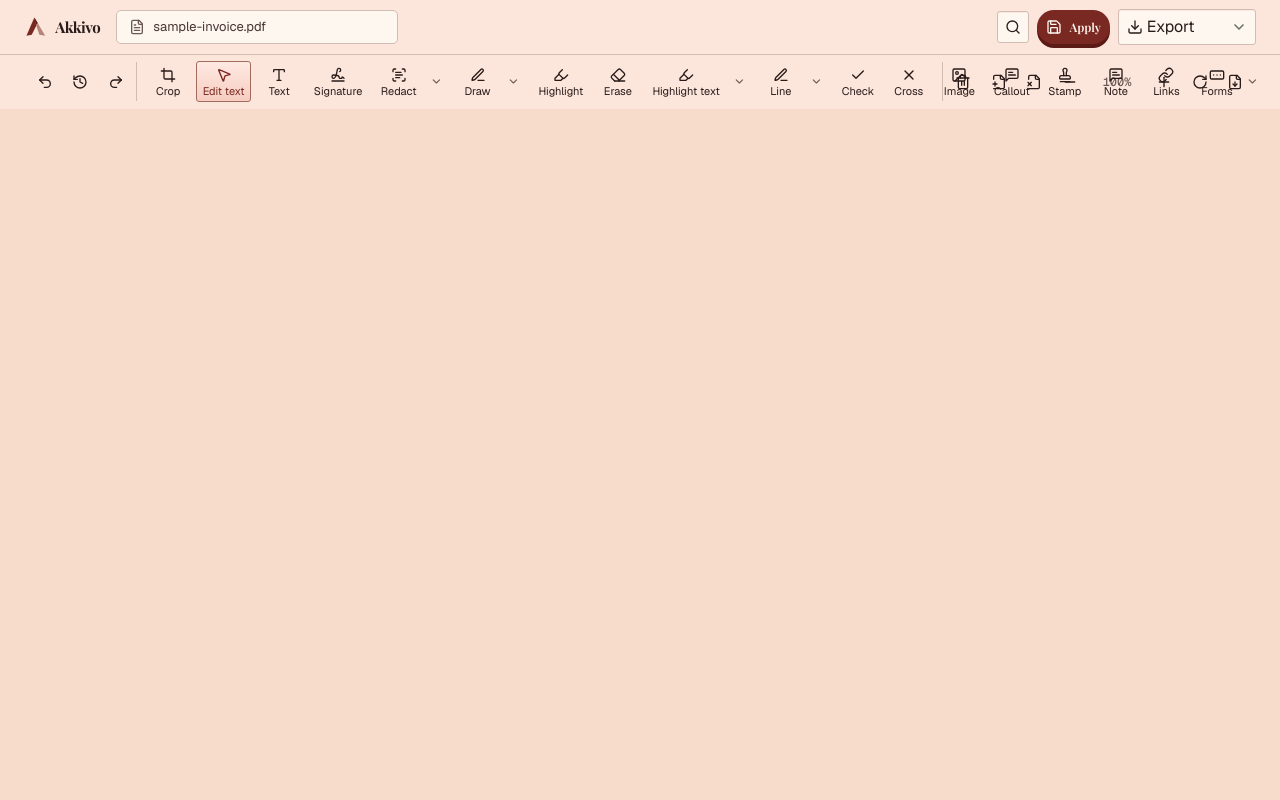
ToolRibbon › history dialog › selects a different entry then reverts it
Click the button titled "Undo history" at {"x": 80, "y": 82}, box [65,62,95,101]
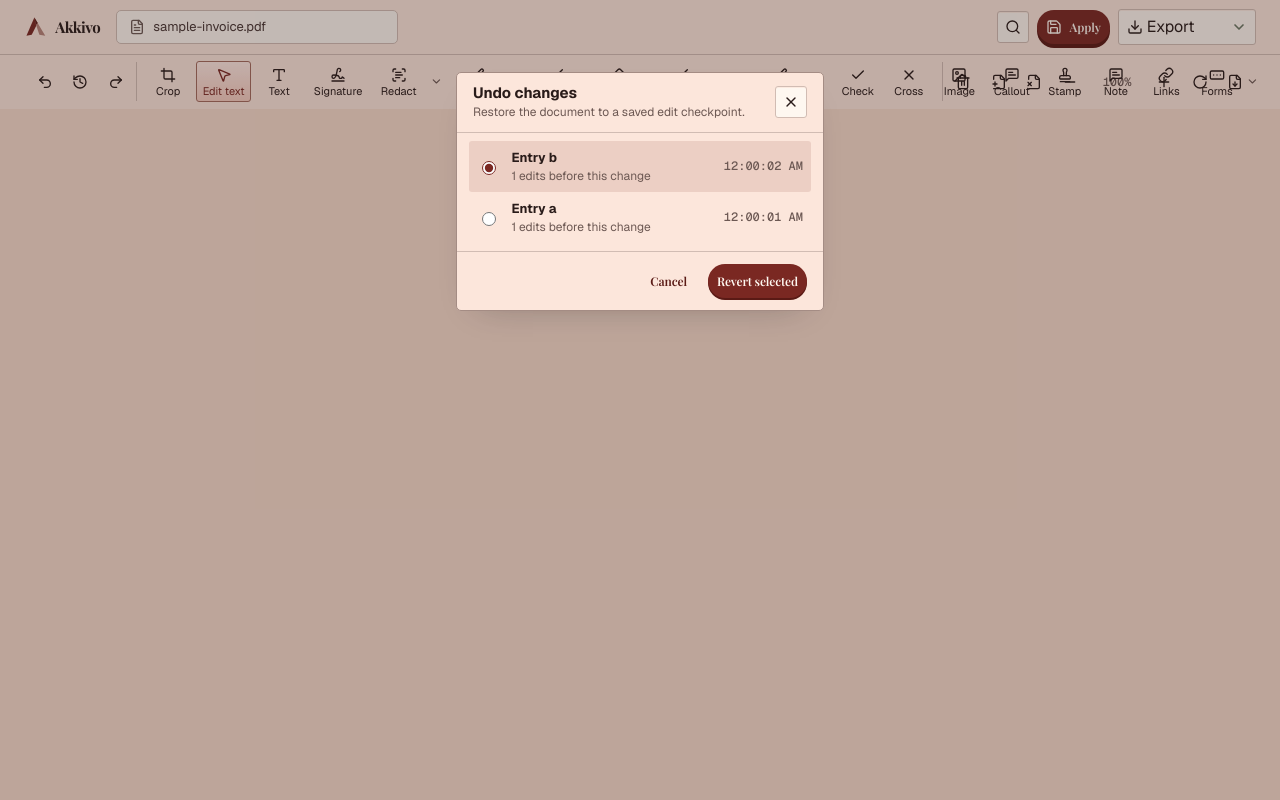
radios[1] corresponds to the older "a" entry.
Click the radio button labelled "Entry a 1 edits before this change 12:00:01 AM" at {"x": 489, "y": 219}, box [482,212,496,226]
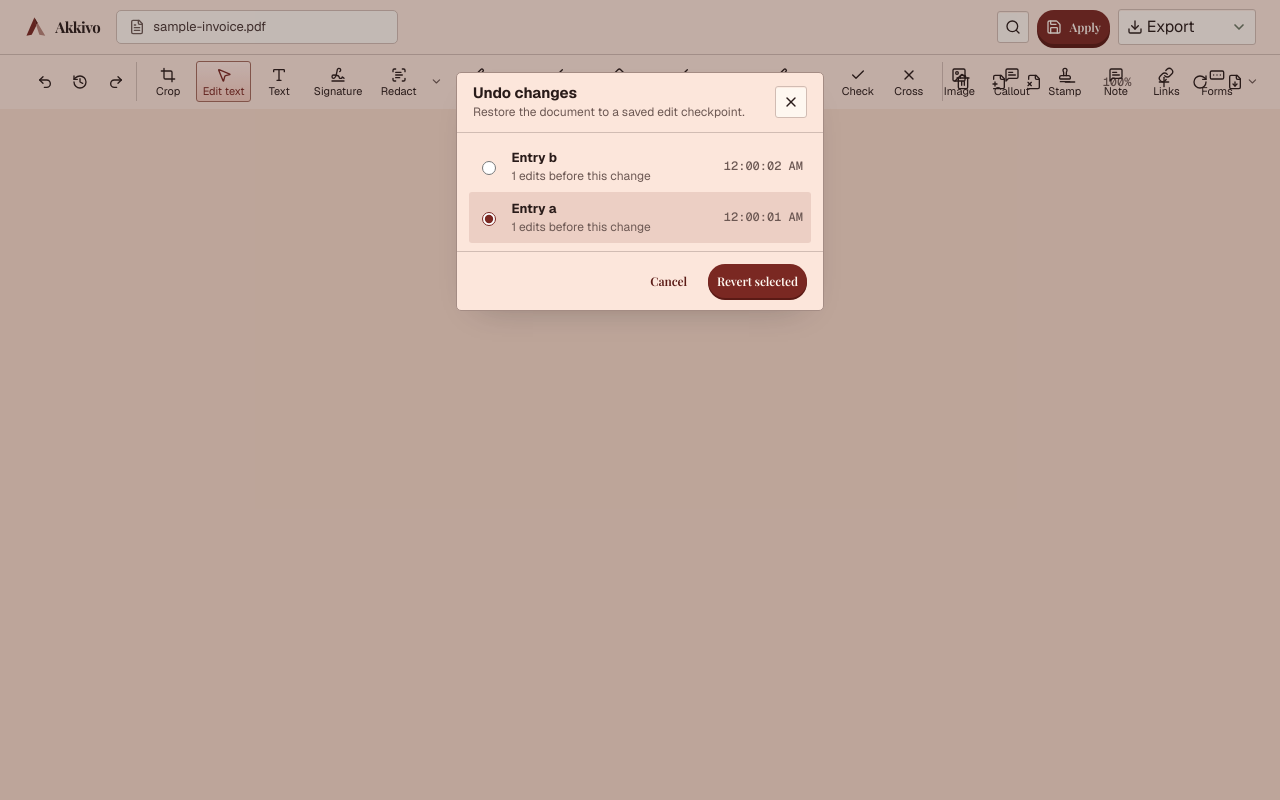
Click the button "Revert selected" at {"x": 758, "y": 281}, box [708,264,807,298]
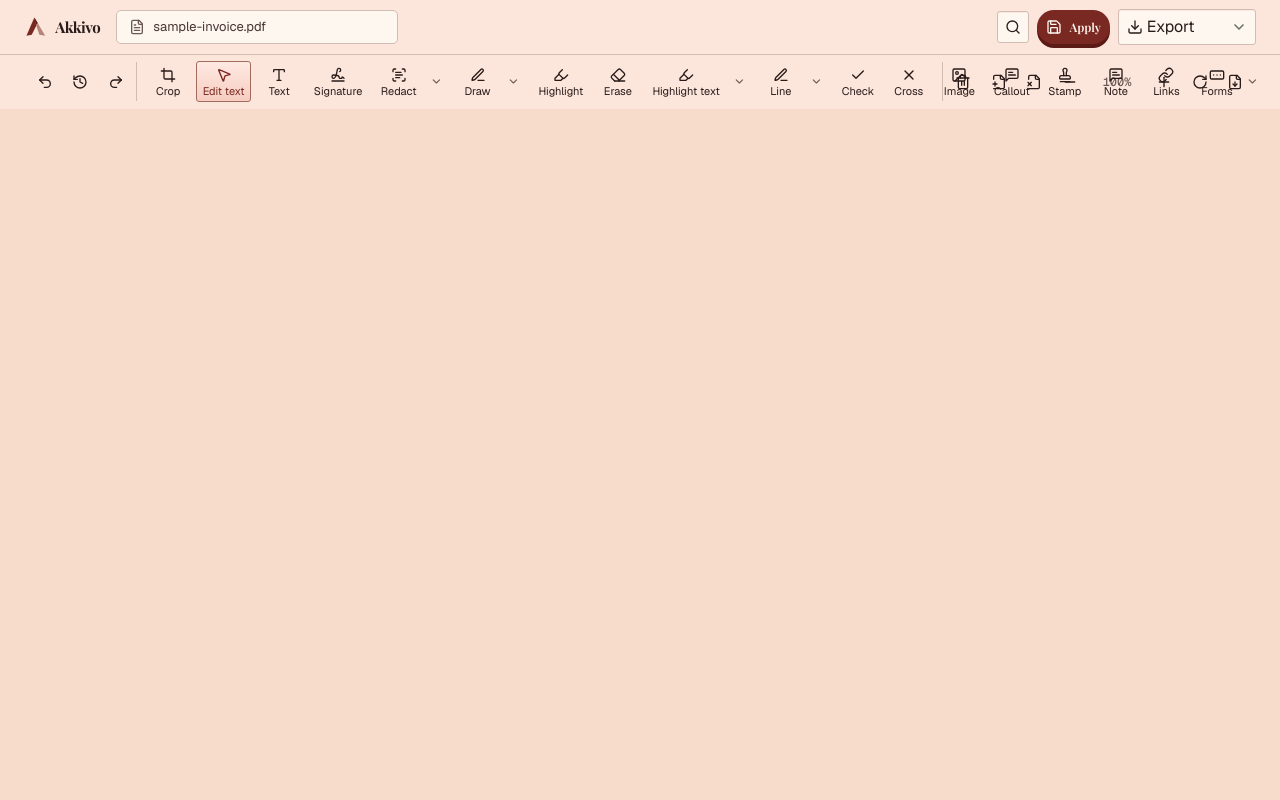
Now the dialog is gone
